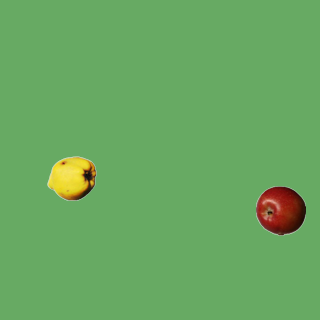Apple Braeburn: (255, 185, 305, 235)
Quince: (46, 153, 96, 203)
